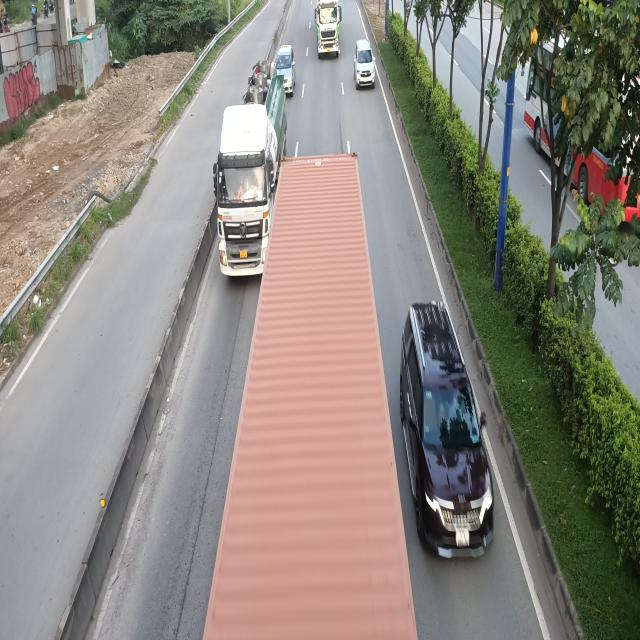car: (397, 301, 493, 564), (353, 40, 375, 90)
container: (206, 152, 416, 640), (214, 57, 292, 280), (315, 0, 343, 57)
